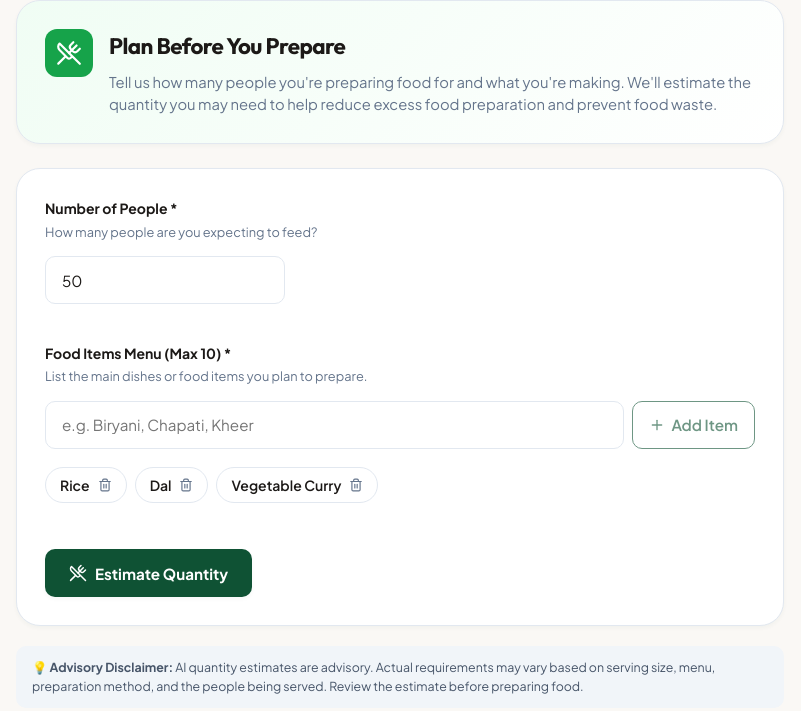
Test case: FoodQuantityPlanner Component › 6. Add food item adds a new item chip
This screenshot has width=801, height=711.
Expected: the text "Rice" is shown, [45, 467, 127, 503]
Expected: the text "Dal" is shown, [135, 467, 208, 503]
Step 1. Type "Naan" into the field with placeholder "e.g. Biryani, Chapati, Kheer" → {"x": 335, "y": 425}, box [45, 401, 624, 449]
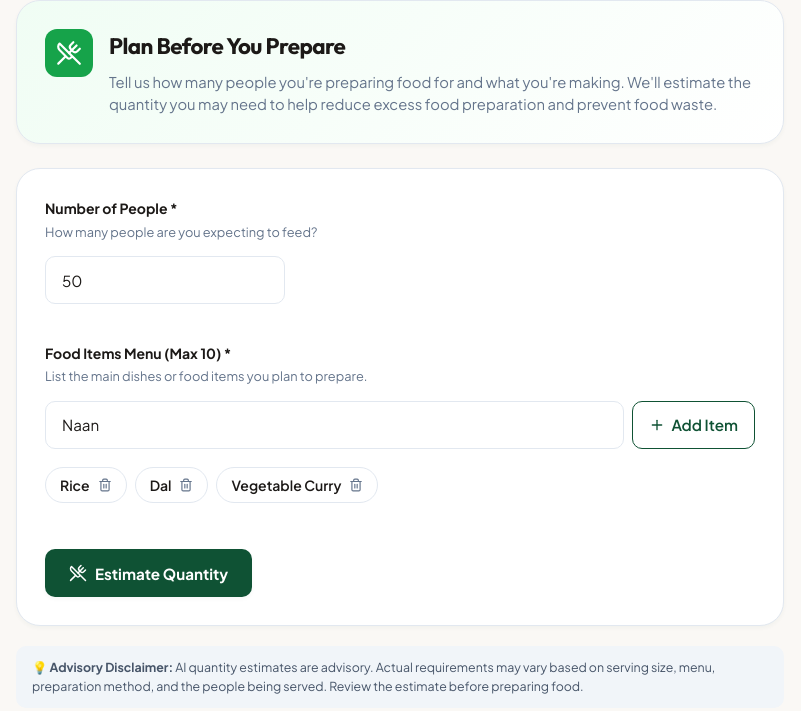
Step 2. Click the button "Add Item" → {"x": 694, "y": 425}, box [632, 401, 755, 449]
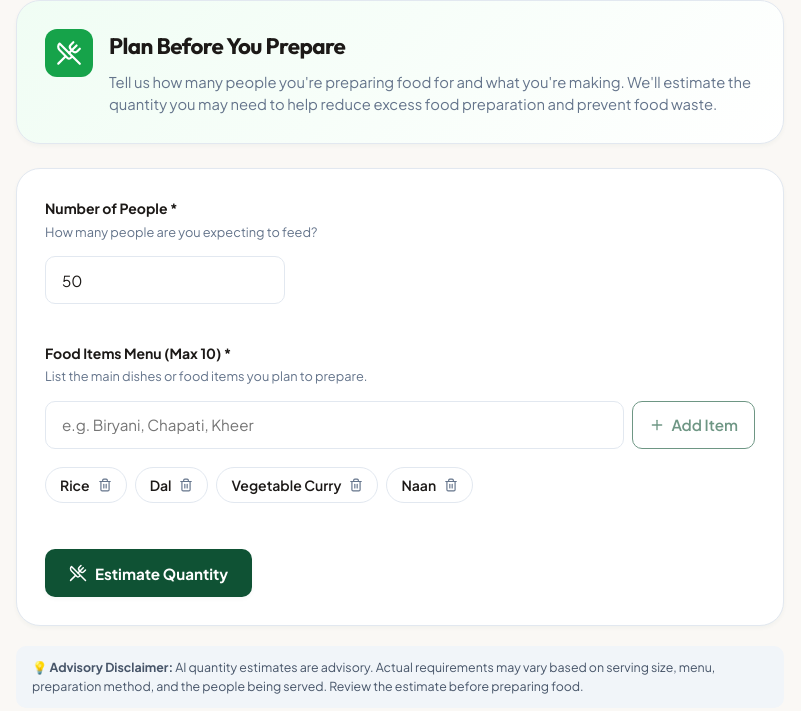
Expected: the text "Naan" is shown, [386, 467, 473, 503]
